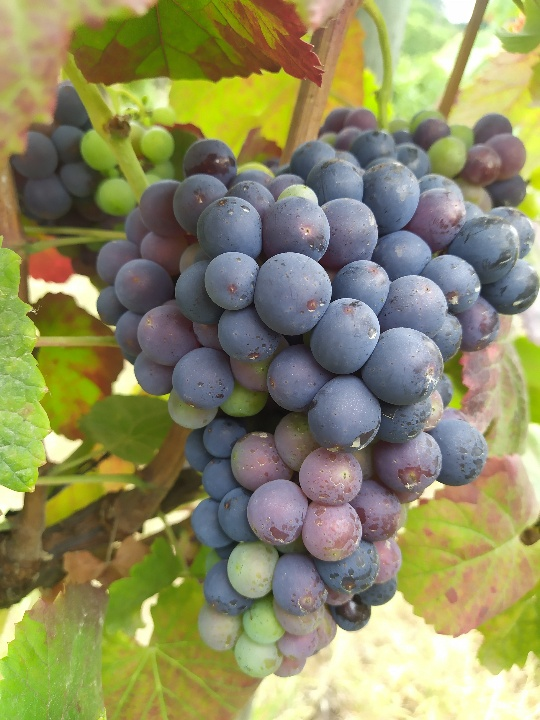grape: (83, 135, 540, 683)
